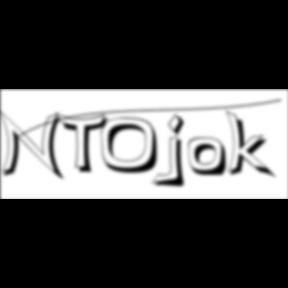N: (0, 109, 68, 183)
O: (101, 117, 166, 176)
T: (56, 112, 114, 176)
j: (164, 113, 192, 191)
k: (226, 108, 278, 181)
o: (188, 137, 230, 179)
